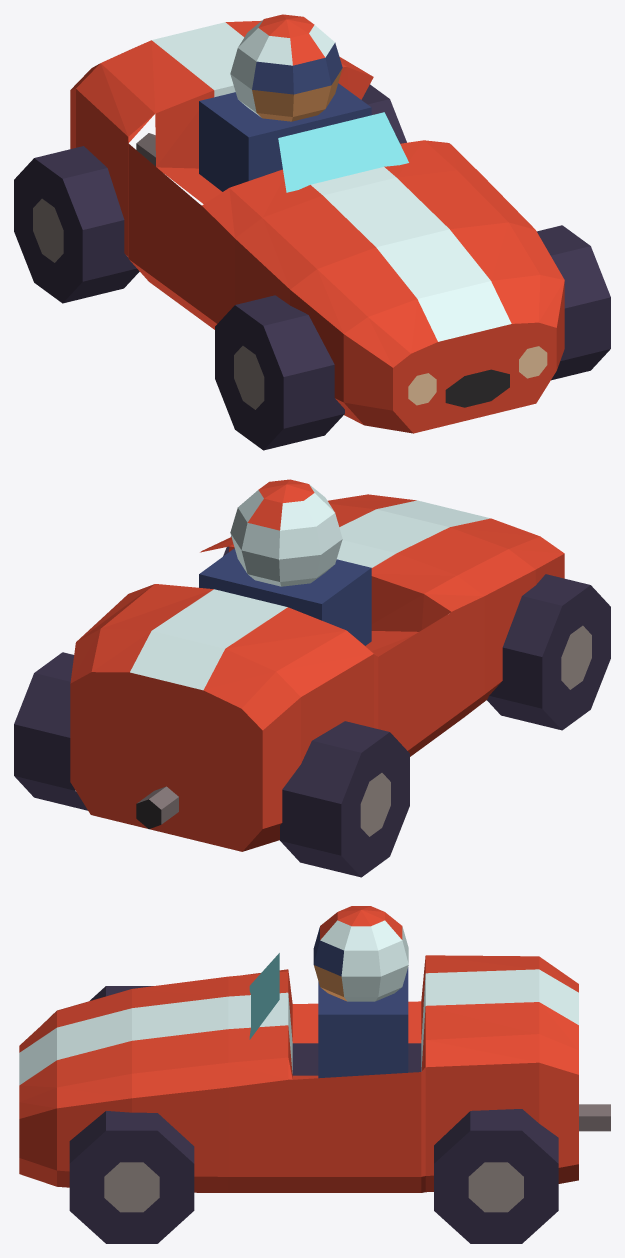
The model's file is racer.glb.
3 renders of one model, top to bottom at view 1: azimuth 30°, elevation 25°; view 2: azimuth 150°, elevation 25°; view 3: azimuth 270°, elevation 25°, orthographic. The views are drawn at different scales.
Visible parts, largest first — view 1: Racer; view 2: Racer; view 3: Racer.
Part boxes in pixels (x1,y1,x2,y2): Racer: (14, 14, 610, 450); Racer: (14, 479, 610, 877); Racer: (19, 906, 610, 1243).
Size of the model in its own units: 1.6 by 1.35 by 2.78.
